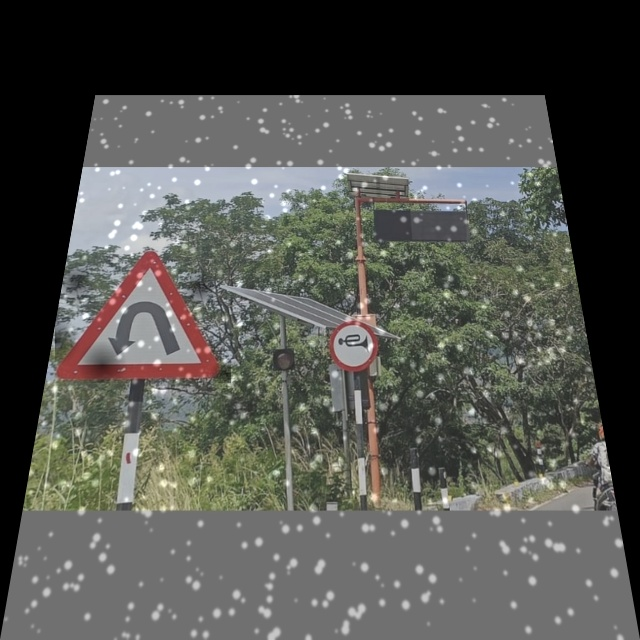Left_Hair_Pin_Bend: (55, 250, 231, 383)
